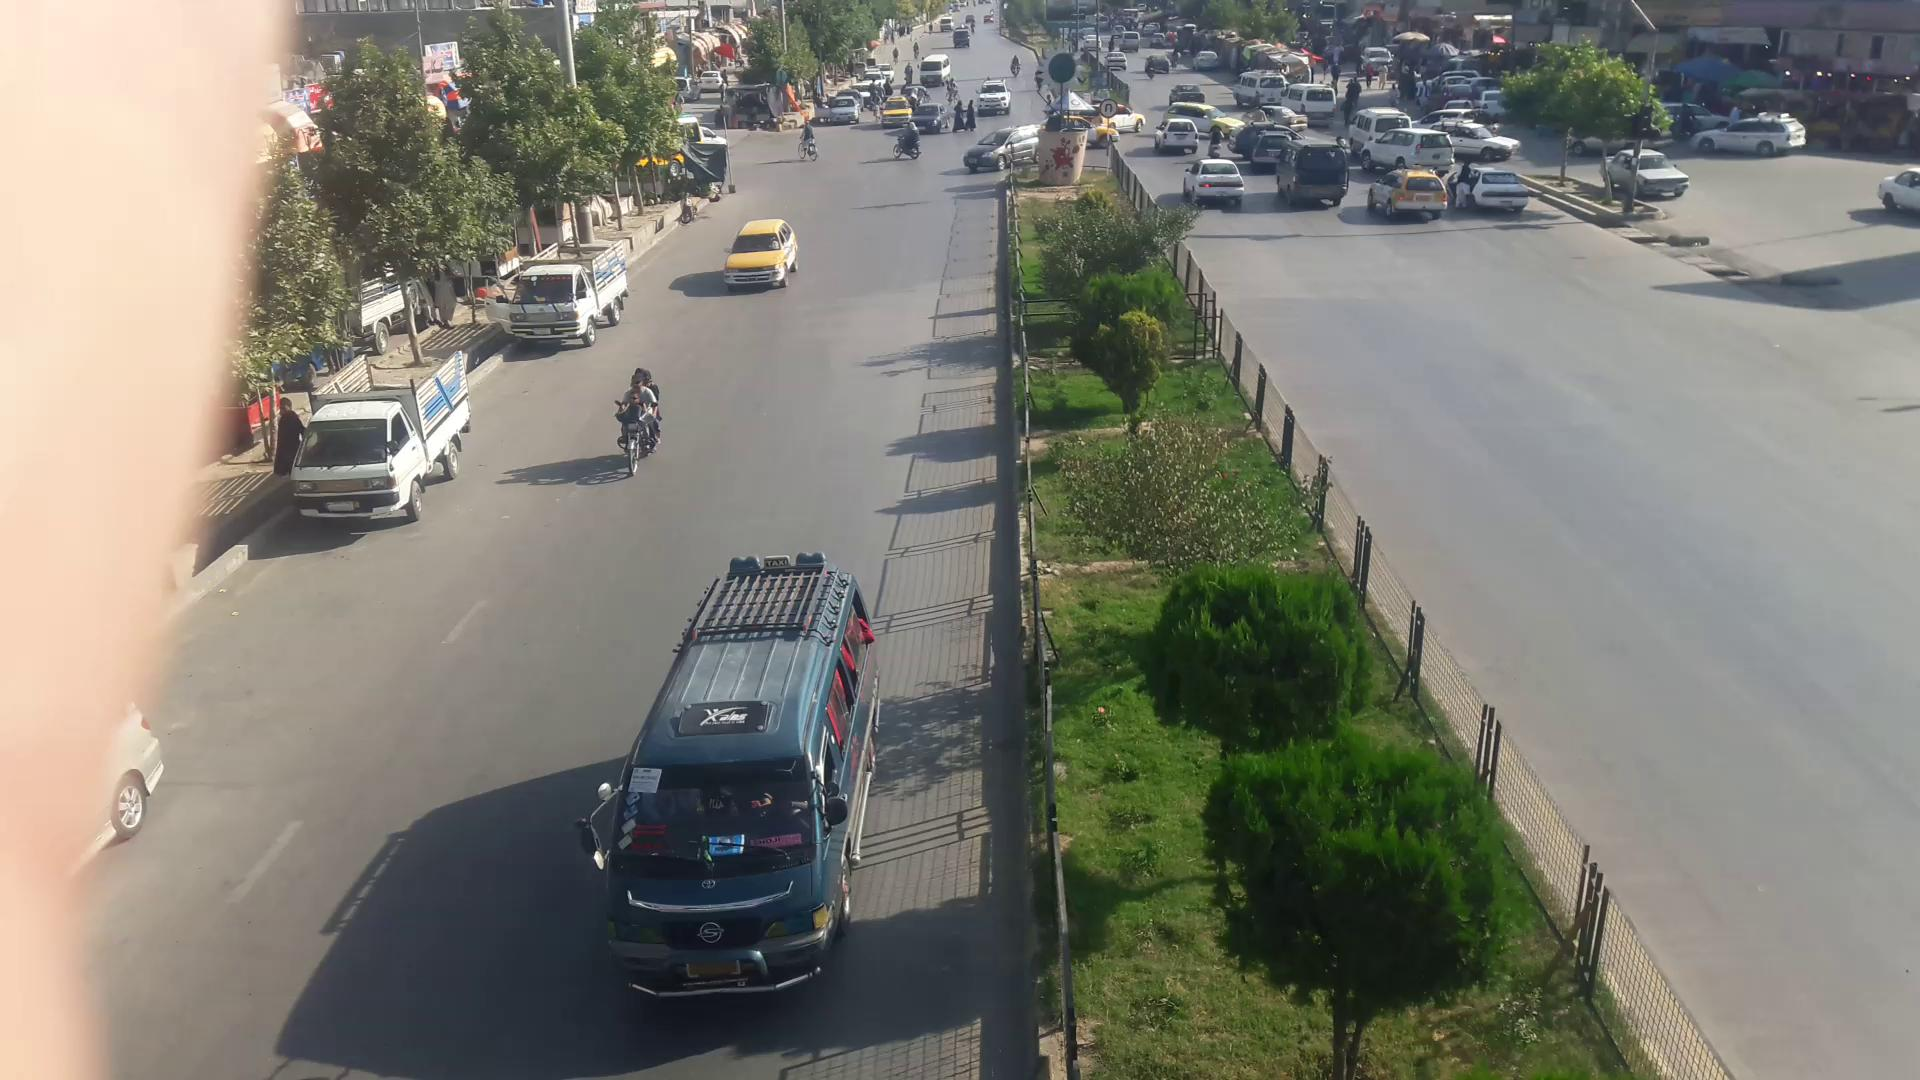bike: (611, 364, 670, 484)
bus: (604, 550, 880, 993), (1273, 141, 1350, 207)
car: (719, 215, 795, 287), (1606, 148, 1695, 203), (1688, 119, 1807, 158), (1367, 170, 1447, 220), (1188, 158, 1249, 210), (967, 131, 1046, 169), (1436, 129, 1514, 165), (1160, 115, 1211, 150)
truck: (285, 342, 469, 518), (496, 245, 632, 336)
